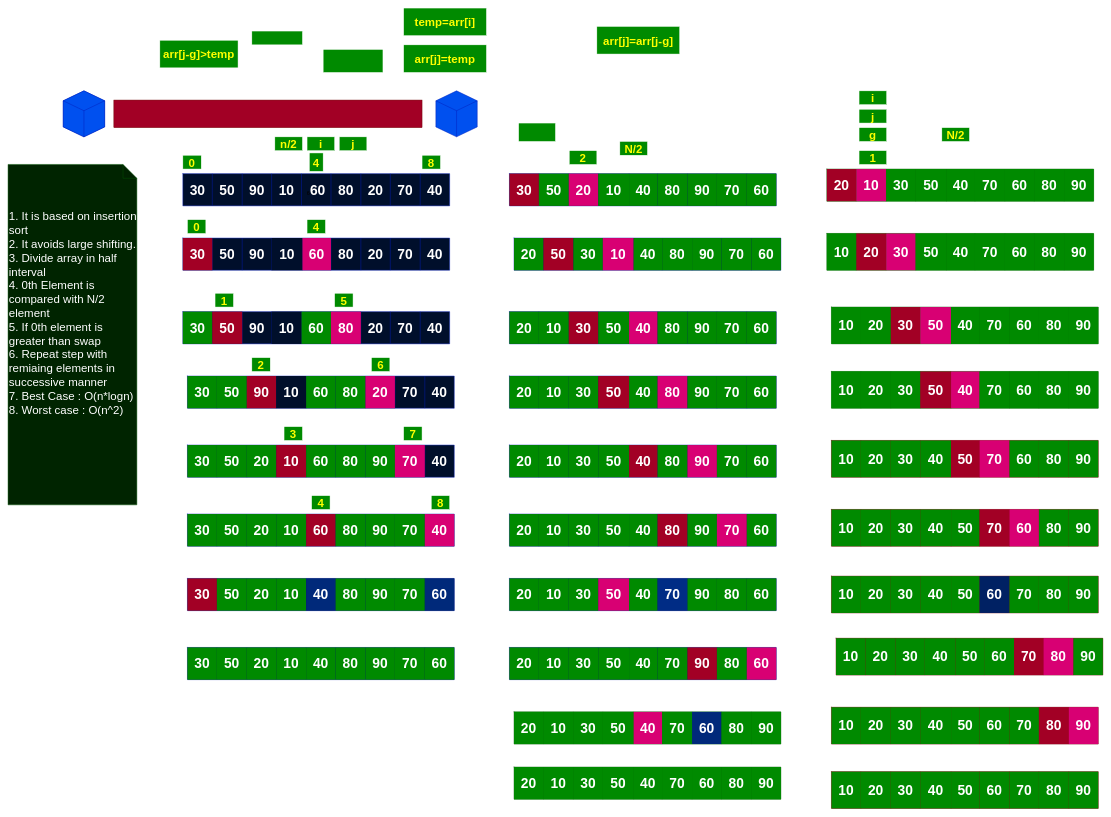
This 1111x817 diagram has some shape labels left out. The box of each missing label's shape, as (x1, y1, x2, y2) in pixels:
Data Structure & Algo | Shell Sort: (113, 100, 422, 128)
g=n/2: (323, 49, 383, 72)
j=j-g: (251, 31, 302, 45)
j>=g: (518, 123, 555, 141)
